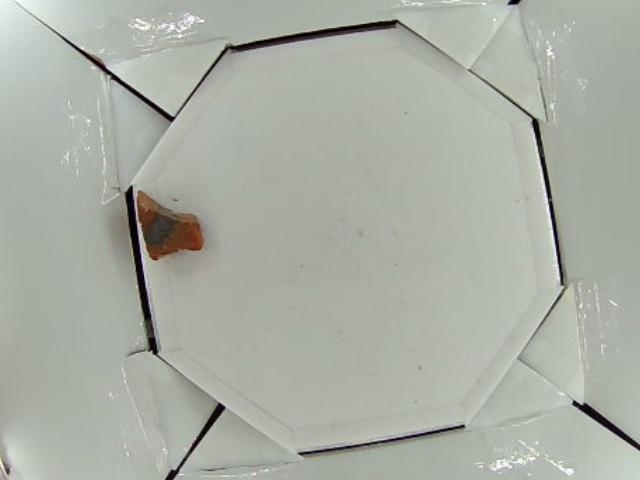Brisk: (136, 190, 205, 260)
